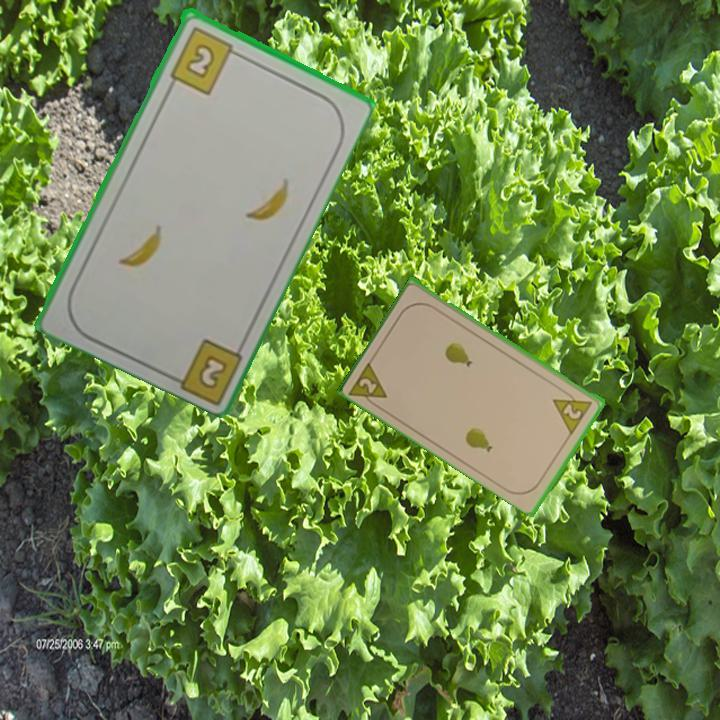2b: (166, 22, 243, 97), (194, 350, 230, 392)
2p: (346, 356, 391, 412), (549, 386, 596, 436)
